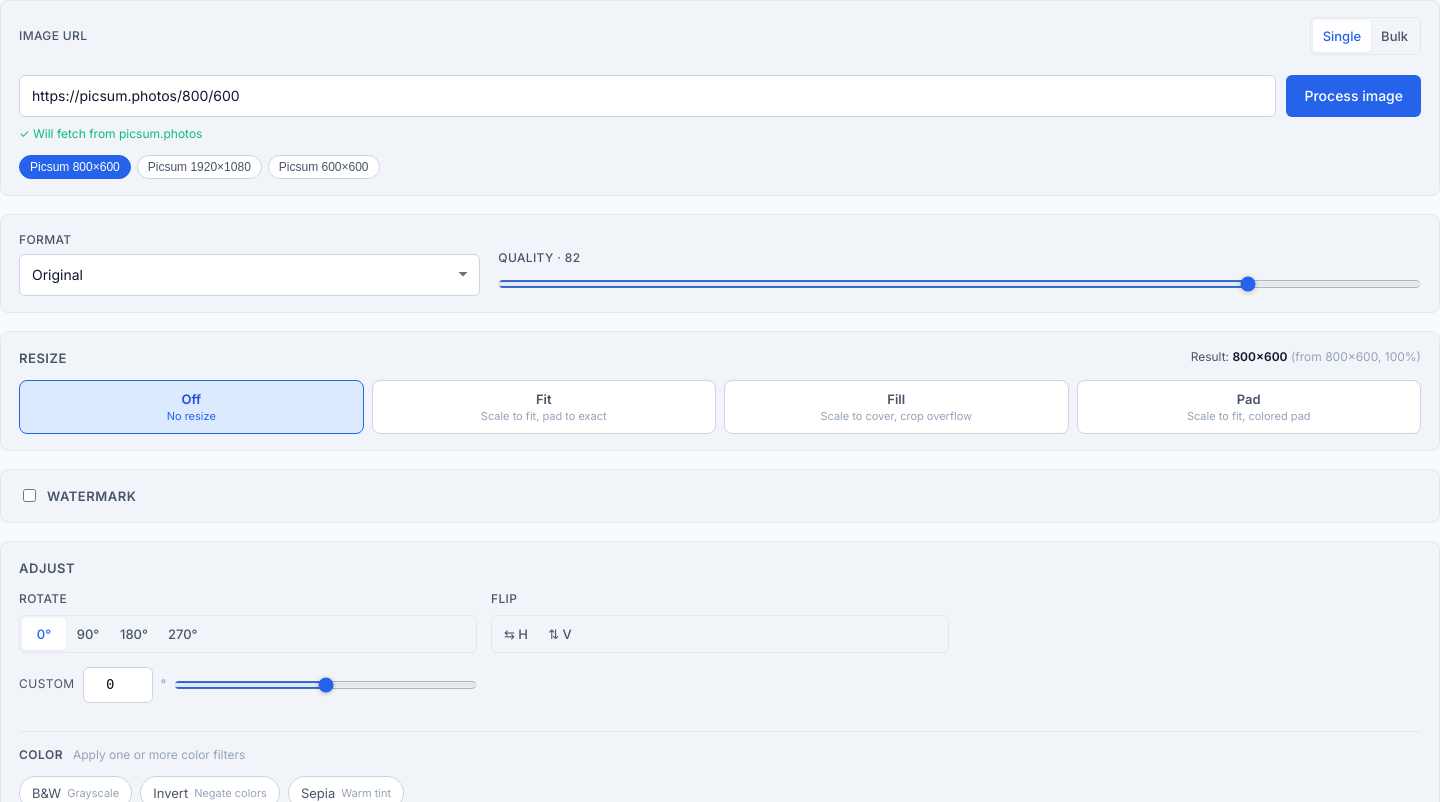
Test case: JobForm › toggling the watermark backing hides the color pickers
Click the checkbox labelled "Watermark". click: x=30, y=496
box: x1=23 y1=489 x2=36 y2=502
(page scrolled)
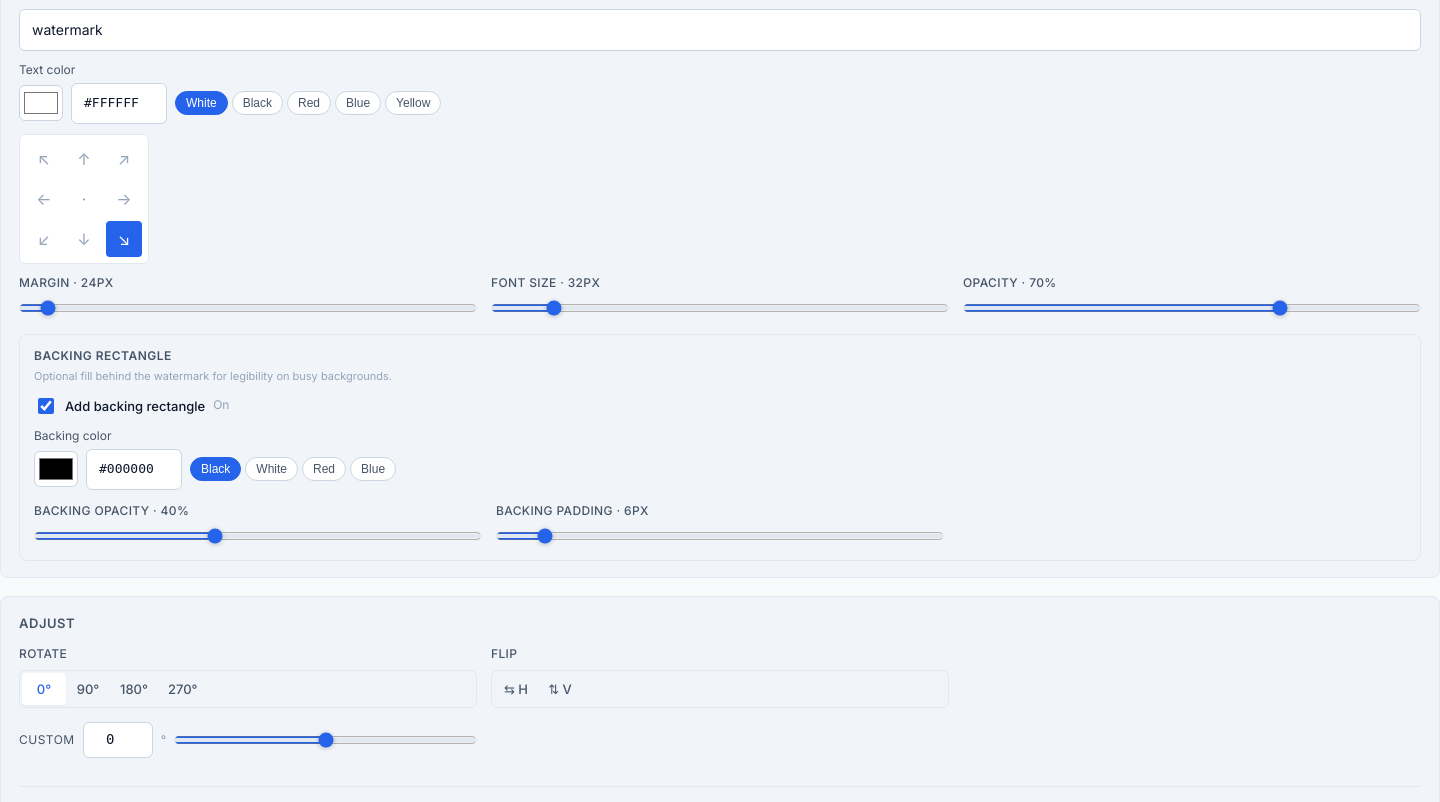
Expected: the colour field named "Backing color" is shown, x1=34 y1=451 x2=78 y2=487
// Toggle off
Click the checkbox labelled "Add backing rectangle On". click: x=46, y=406
box: x1=38 y1=398 x2=54 y2=414
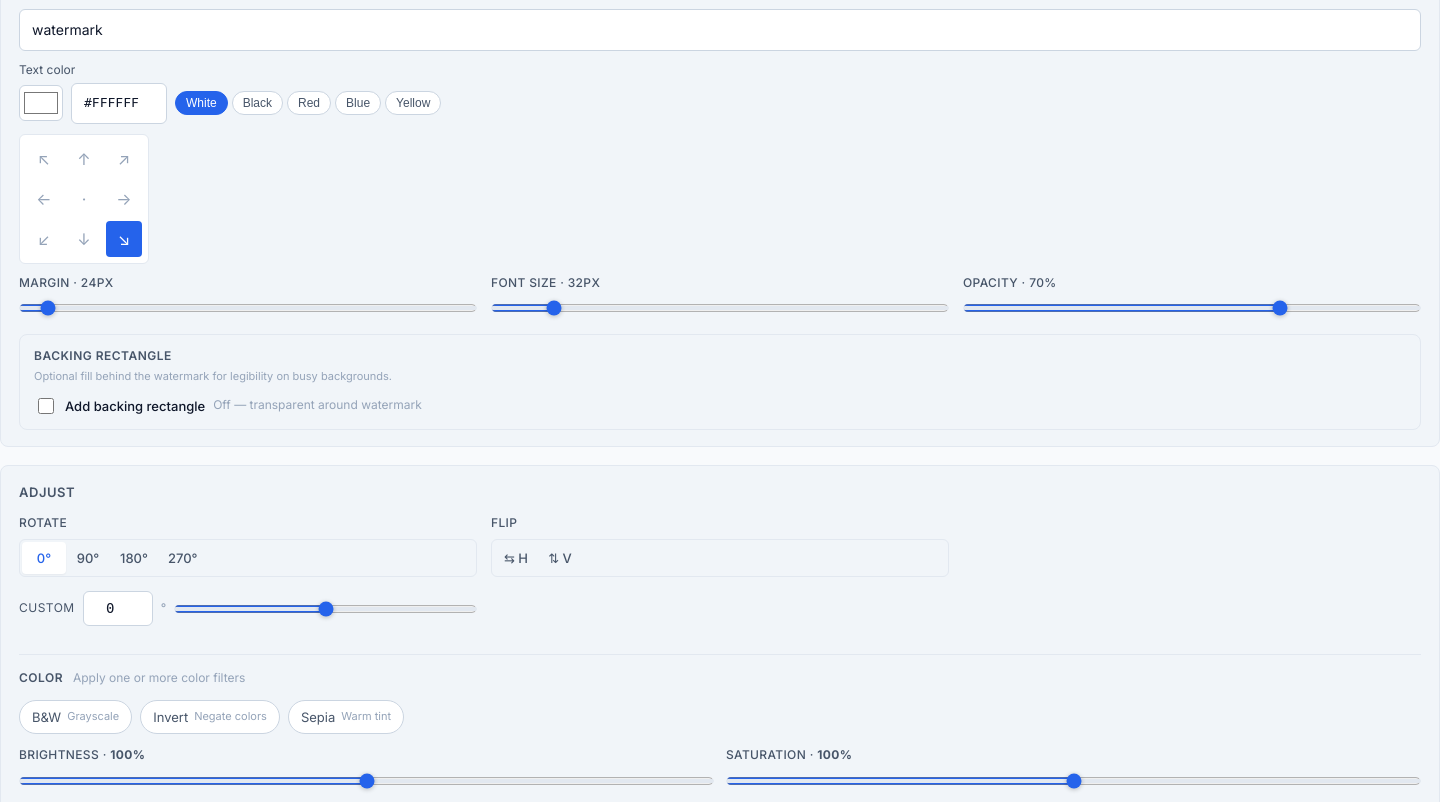
Expected: the text labelled "Backing color" is gone
